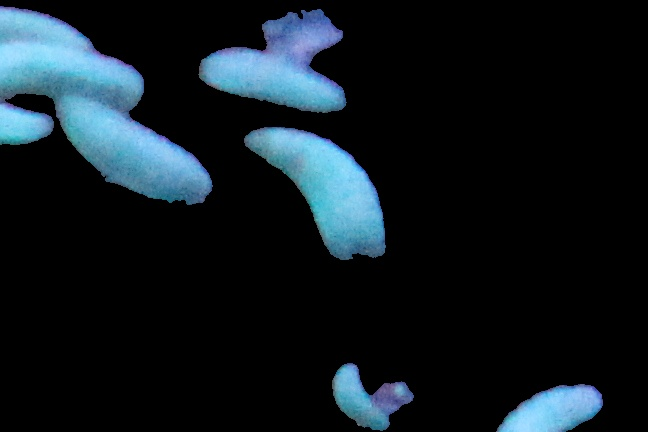larvae: (241, 122, 389, 261), (53, 94, 211, 205), (200, 46, 347, 113), (1, 40, 146, 104), (496, 380, 601, 432), (1, 3, 104, 53), (326, 362, 389, 428), (1, 104, 56, 152)
